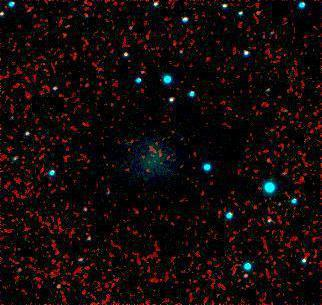star: (253, 147, 283, 177)
